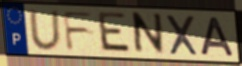A: (199, 16, 236, 58)
E: (97, 10, 133, 55)
F: (61, 10, 96, 52)
N: (132, 11, 166, 57)
U: (27, 9, 64, 52)
X: (164, 13, 201, 58)
